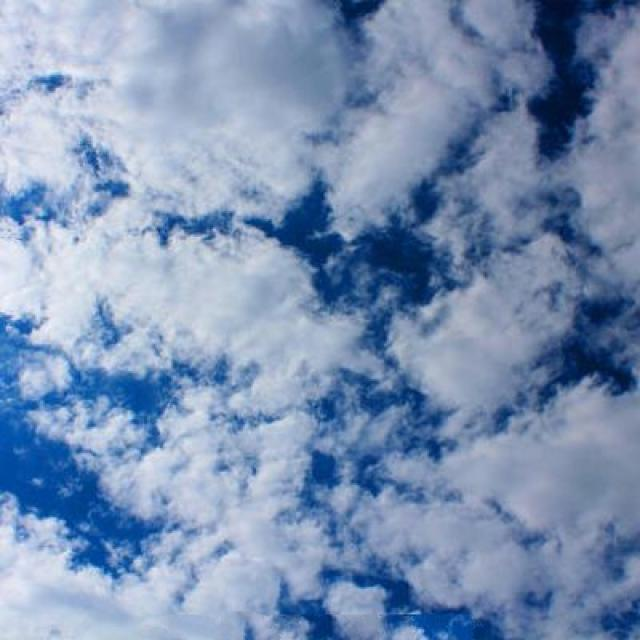Cc: (1, 76, 627, 601)
